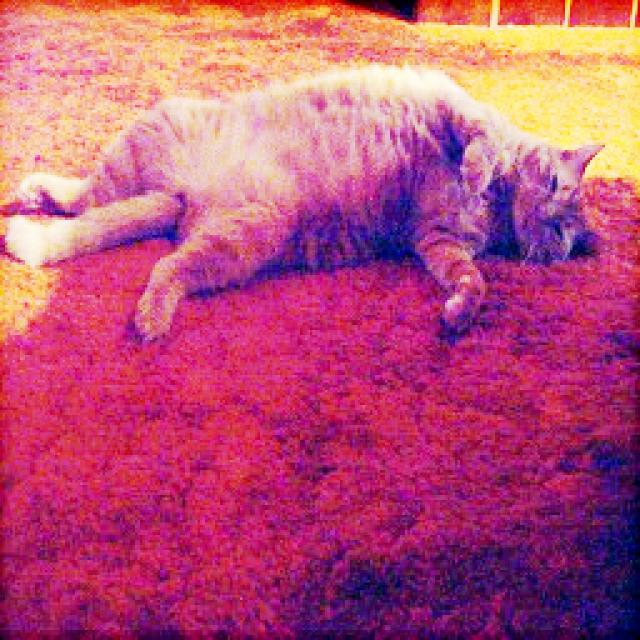cat: (5, 53, 618, 361)
